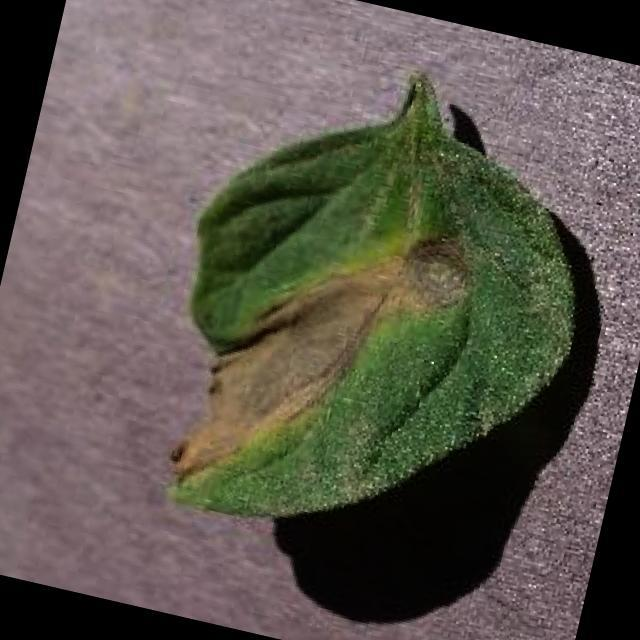Tomato Early blight leaf: (132, 78, 608, 583)
